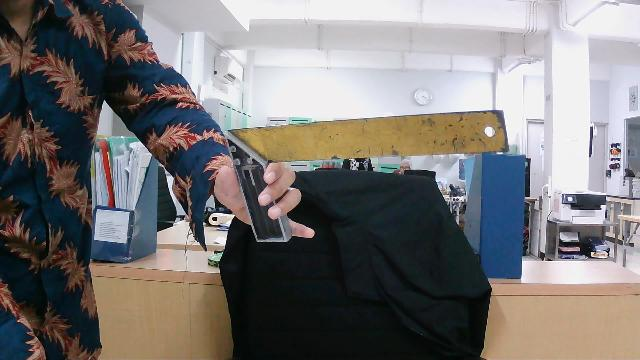penggaris_siku: (223, 103, 514, 244)
